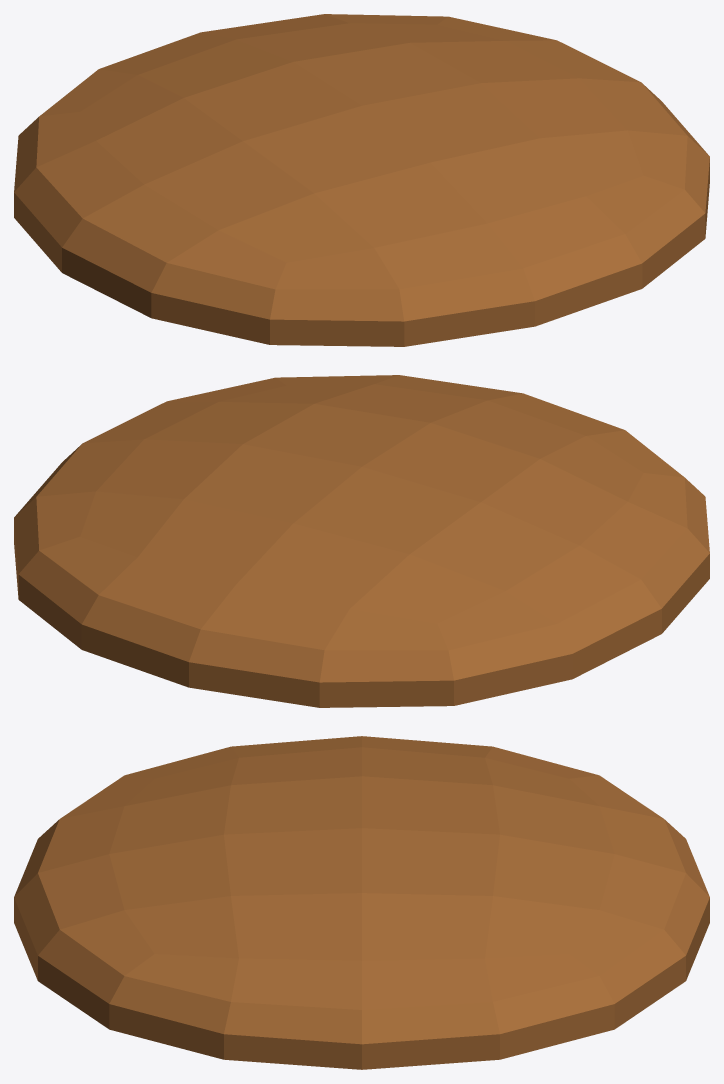
The model's file is hamburger ekmek üst.fbx.
3 renders of one model, top to bottom at view 1: azimuth 30°, elevation 25°; view 2: azimuth 150°, elevation 25°; view 3: azimuth 270°, elevation 25°, orthographic.
Parts seen in each view (by area): view 1: Cube.003; view 2: Cube.003; view 3: Cube.003.
Part boxes in pixels (x1,y1,x2,y2): Cube.003: (14,14,709,346); Cube.003: (14,375,709,707); Cube.003: (14,736,709,1069).
Bounding box in the file's own units: 40 × 6 × 40.
